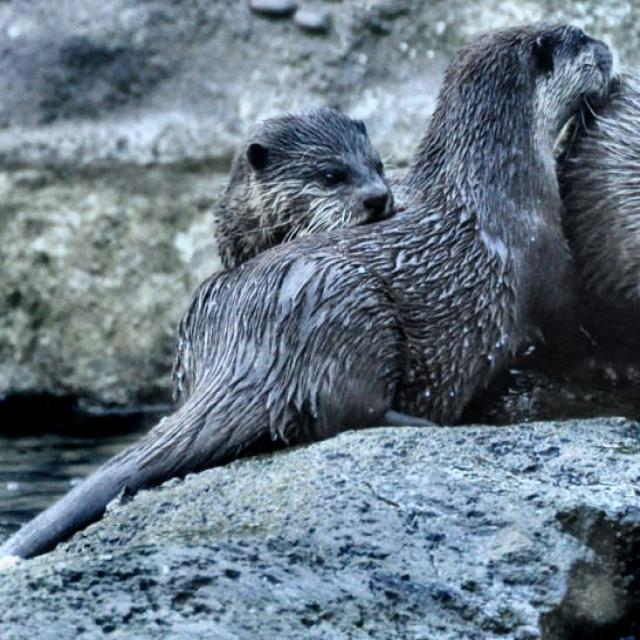otter: (6, 24, 617, 557), (211, 105, 413, 274)
